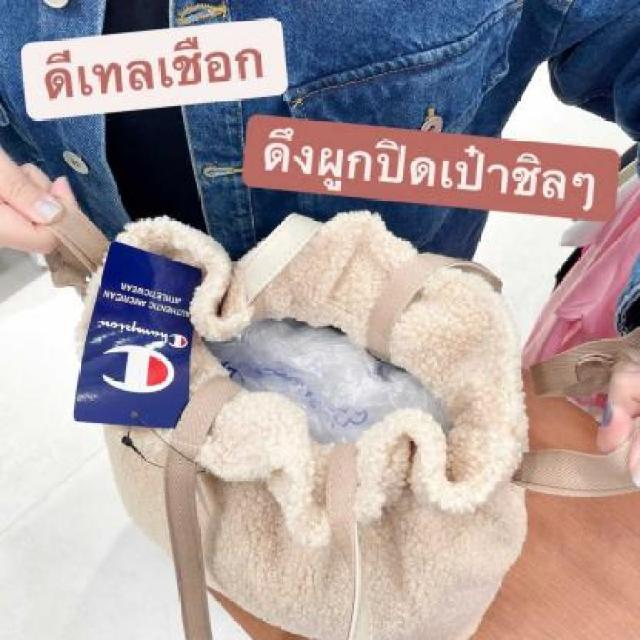Bag: (68, 197, 560, 640)
